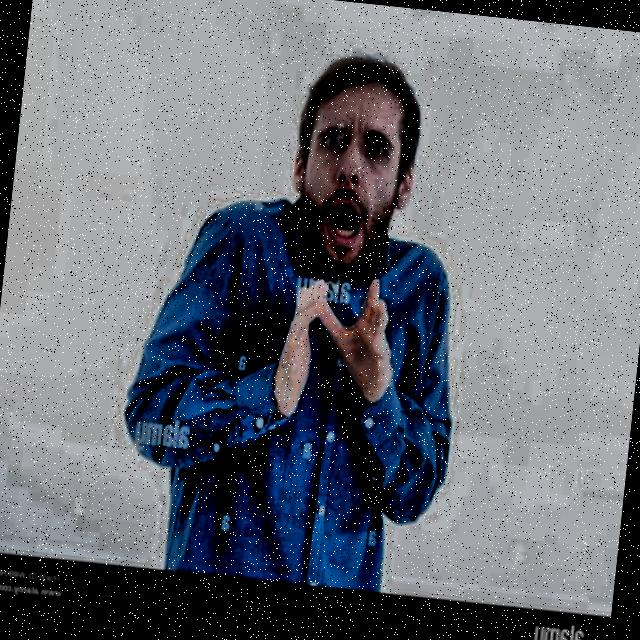fear: (265, 40, 447, 291)
